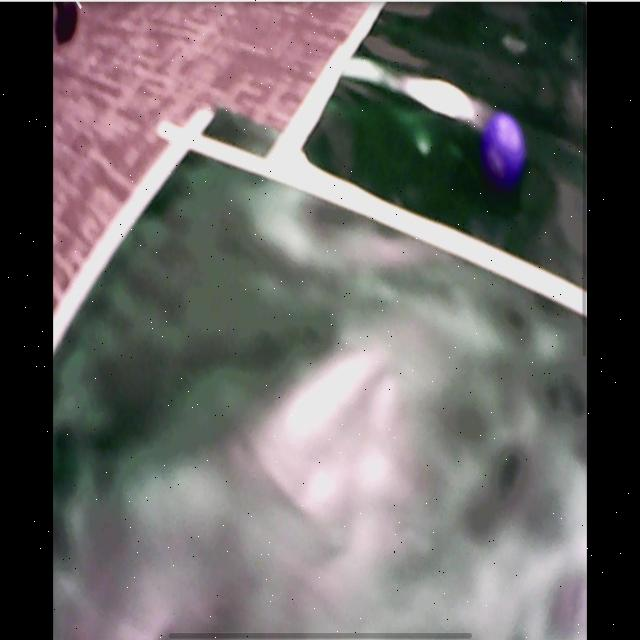ball: (482, 114, 528, 187)
